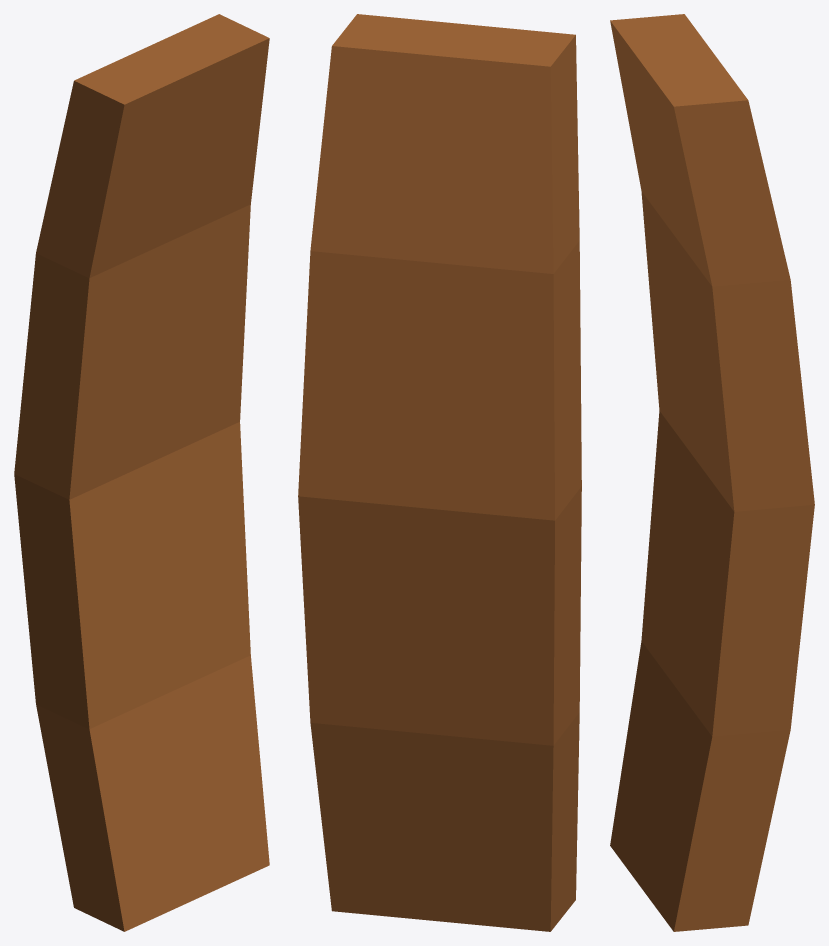
The model's file is barrel-020.glb.
3 views of the same model, side by side, from view 1: azimuth 30°, elevation 25°; view 2: azimuth 150°, elevation 25°; view 3: azimuth 270°, elevation 25° (orthographic). The views are drawn at different scales.
Parts seen in each view (by area): view 1: barrel.020; view 2: barrel.020; view 3: barrel.020.
Boxes of the visible parts, <box> form: barrel.020: <box>14,14,269,931</box>; barrel.020: <box>298,14,581,931</box>; barrel.020: <box>610,14,814,931</box>.
Bounding box in the file's own units: 1.52 × 5.38 × 1.21.
